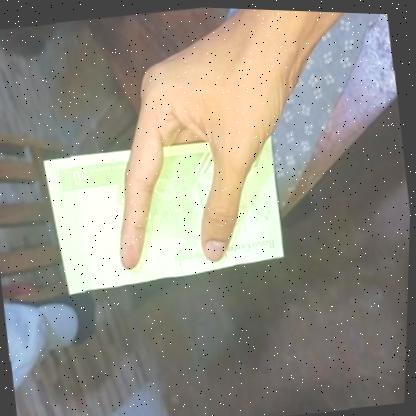fifty-back-vef: (40, 125, 290, 303)
